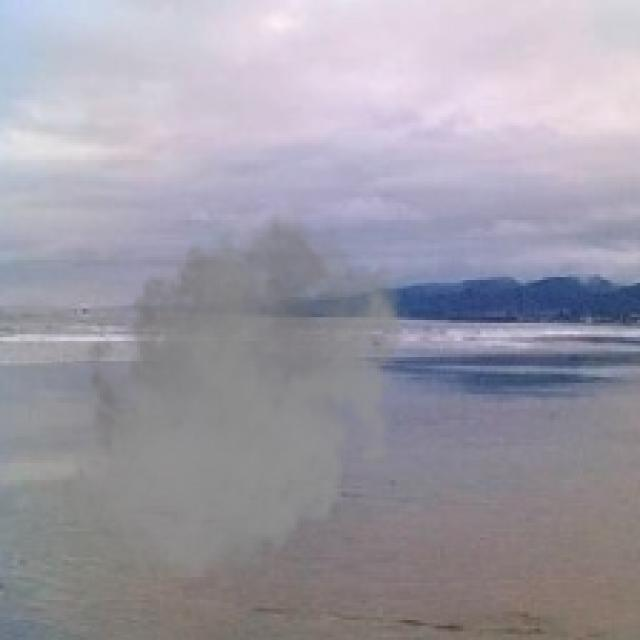smoke: (63, 192, 414, 597)
